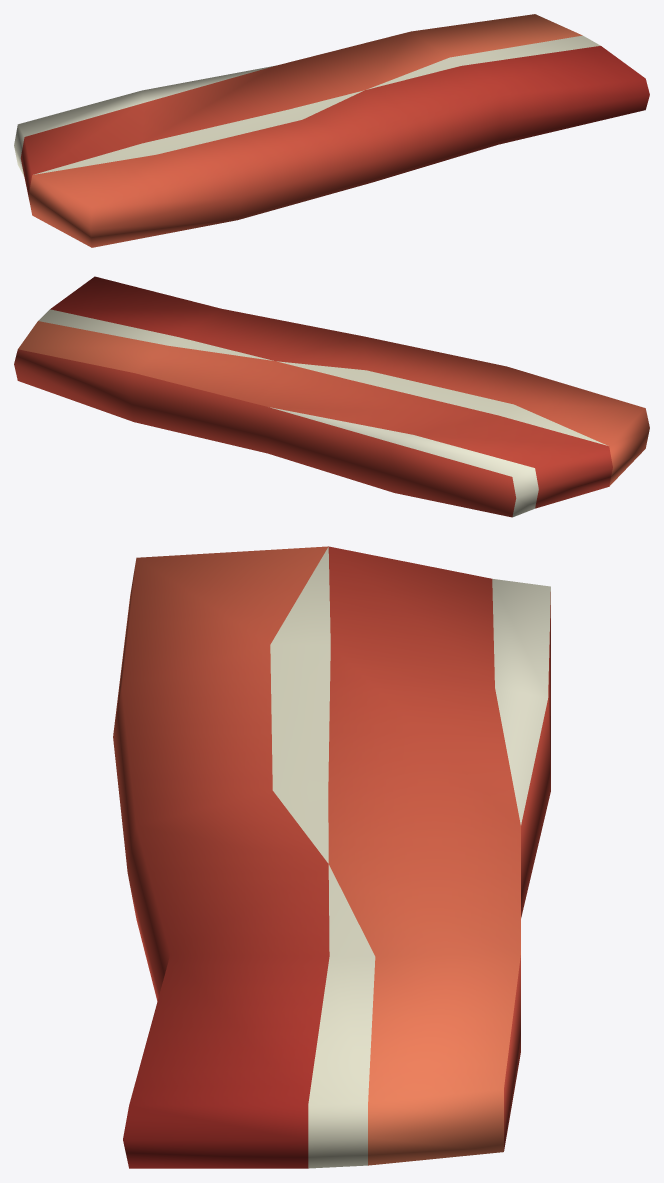
File: Bacon_Slice_01.glb
3 renders of one model, top to bottom at view 1: azimuth 30°, elevation 25°; view 2: azimuth 150°, elevation 25°; view 3: azimuth 270°, elevation 25°, orthographic. The views are drawn at different scales.
Parts seen in each view (by area): view 1: Bacon_Slice_01; view 2: Bacon_Slice_01; view 3: Bacon_Slice_01.
Boxes of the visible parts, x1,y1,x2,y2 form: Bacon_Slice_01: (14, 14, 649, 247); Bacon_Slice_01: (14, 276, 649, 517); Bacon_Slice_01: (113, 546, 550, 1168).
Size of the model in its own units: 0.5399 by 0.0443 by 0.1793.
Materials: 1 (1 with a texture image).
